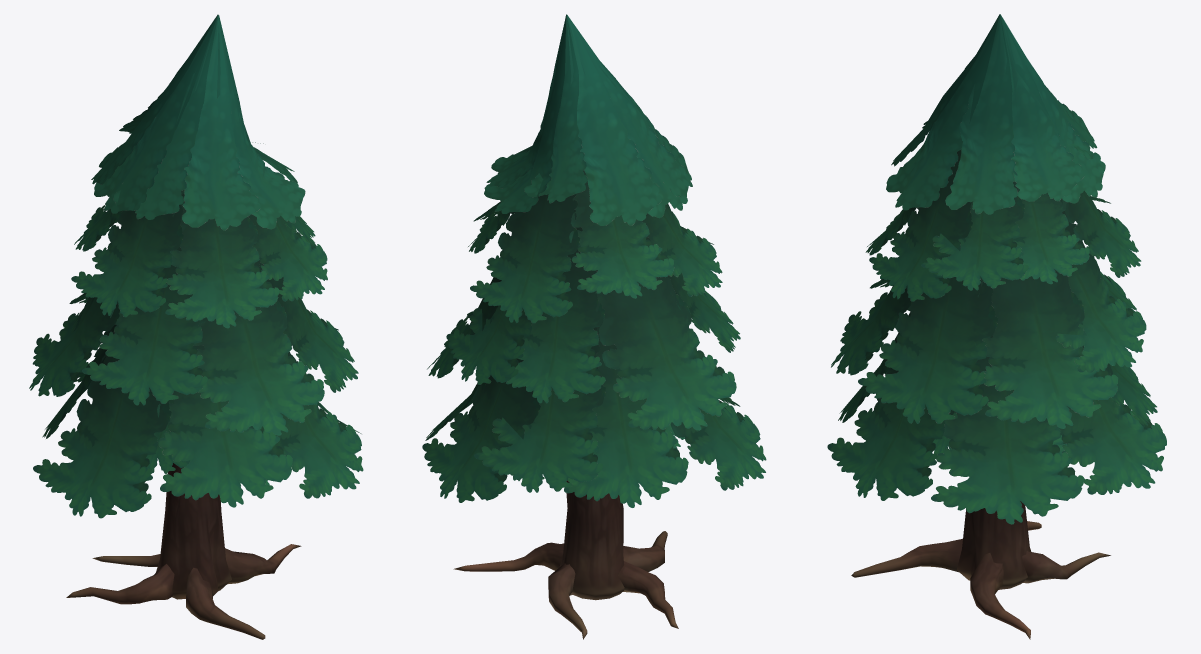
The model's file is trees_01.fbx.
3 renders of one model, left to right at view 1: azimuth 30°, elevation 25°; view 2: azimuth 150°, elevation 25°; view 3: azimuth 270°, elevation 25°, orthographic.
Visible parts, largest first — view 1: trees_01; view 2: trees_01; view 3: trees_01.
Part boxes in pixels (box(x1,y1,x2,y2)): trees_01: box(29, 14, 363, 639); trees_01: box(422, 14, 766, 639); trees_01: box(827, 14, 1166, 639).
Size of the model in its own units: 502 by 850 by 497.
